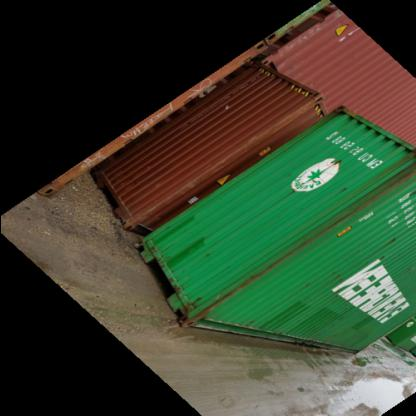Damage: (189, 238, 304, 325), (302, 159, 414, 235)
